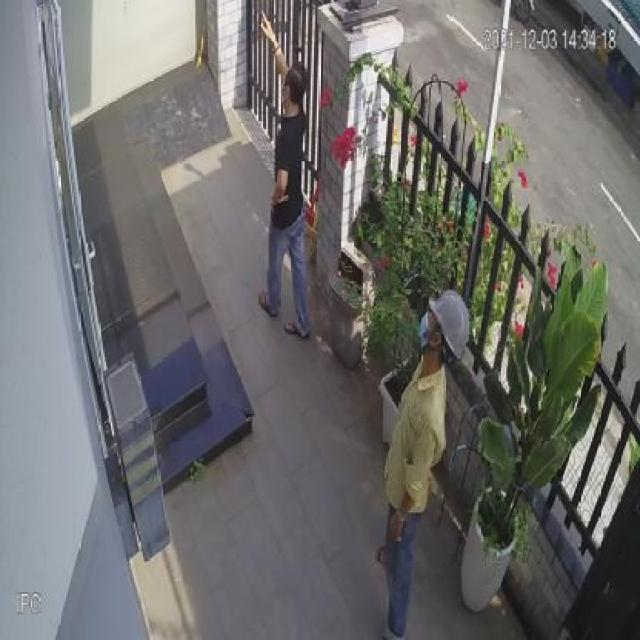Manusia: (378, 290, 470, 639), (253, 6, 312, 345)
